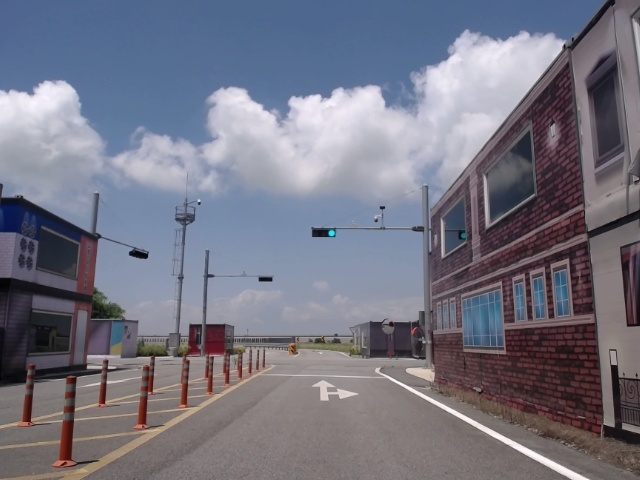green_3: (311, 229, 336, 238)
